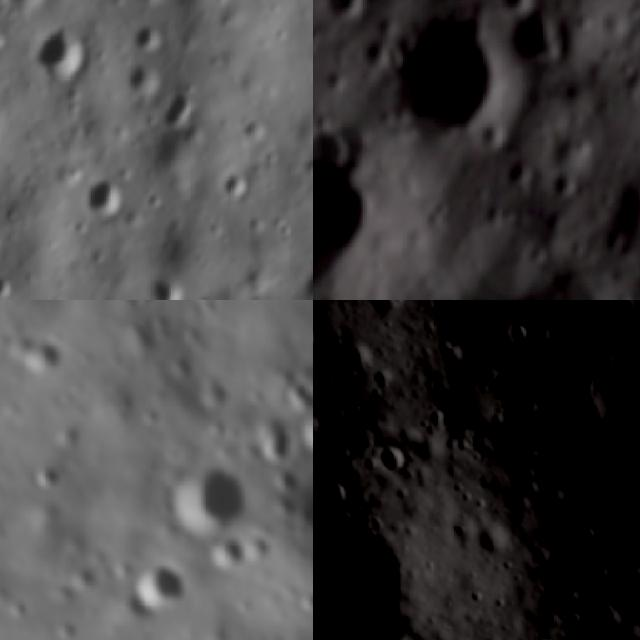crater: (376, 0, 514, 149), (509, 346, 624, 464), (561, 387, 640, 538), (313, 113, 376, 300), (157, 452, 259, 538), (0, 316, 75, 379), (505, 0, 571, 64), (125, 552, 197, 610), (570, 327, 634, 392), (360, 426, 425, 490), (327, 324, 388, 388), (313, 456, 366, 524), (241, 404, 301, 462), (33, 18, 89, 80), (154, 81, 205, 137), (576, 594, 635, 640), (78, 170, 132, 220), (236, 525, 284, 578), (602, 543, 640, 608), (201, 529, 250, 573), (355, 300, 422, 332), (545, 124, 592, 168), (546, 165, 585, 208), (122, 55, 164, 94), (24, 452, 61, 494), (504, 148, 539, 192), (313, 0, 379, 23), (596, 300, 640, 333), (131, 14, 168, 51), (148, 269, 187, 300), (0, 267, 22, 300), (491, 0, 542, 13), (302, 401, 313, 454)
